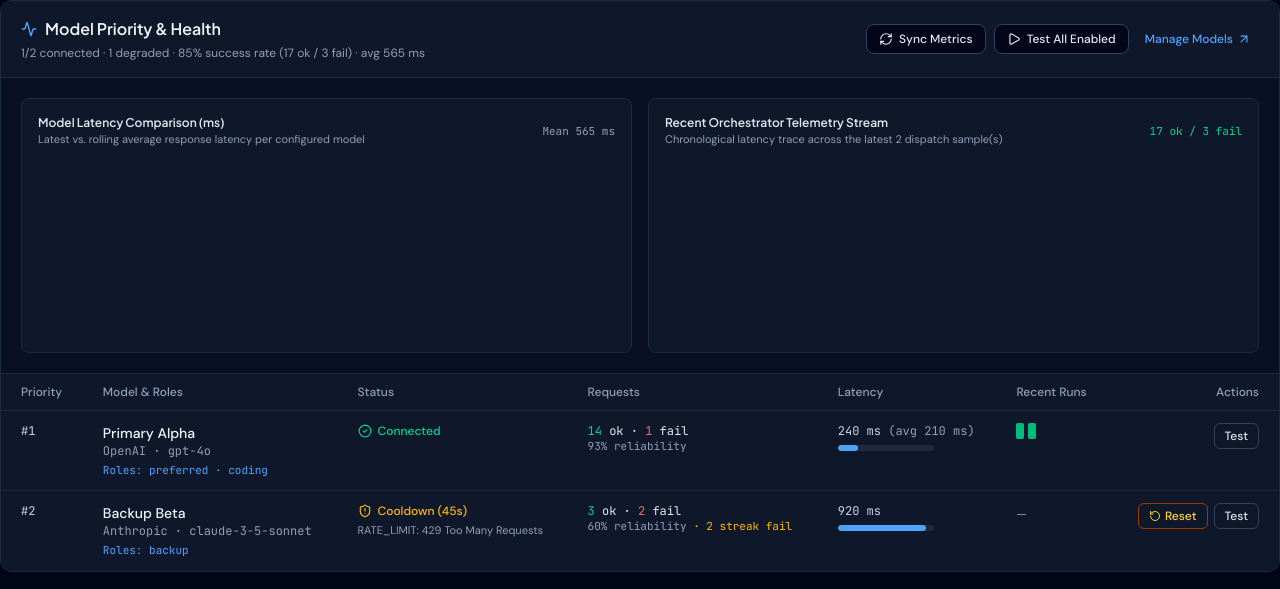
Test: ModelHealthDashboard Component › renders connection status, latency, reliability metrics, cooldown timer, Recharts charts, and resets cooldown
The width and height of the screenshot is (1280, 589).
Expected: the text "Primary Alpha" is shown, [103,424,195,442]
Expected: the text "Backup Beta" is shown, [103,504,185,522]
Click the button with aria-label "Refresh live orchestrator metrics".
click(926, 39)  # box [866,24,986,54]
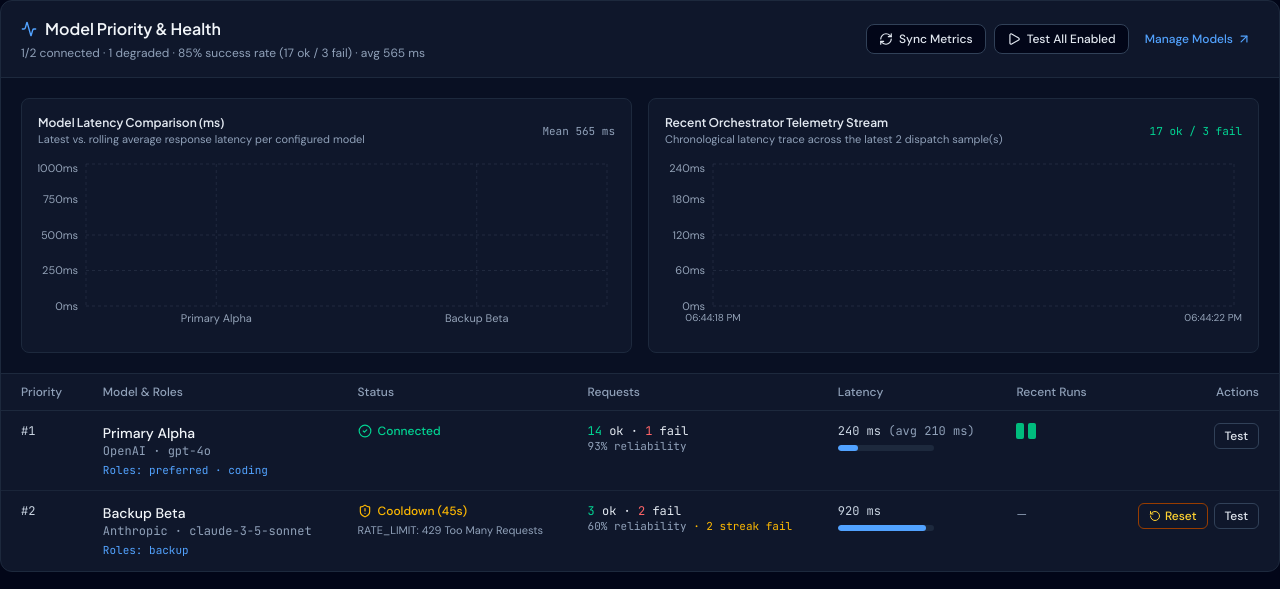
# Click Reset circuit breaker button on Backup Beta
Click the button "Reset".
click(1173, 516)  # box [1138,503,1208,529]
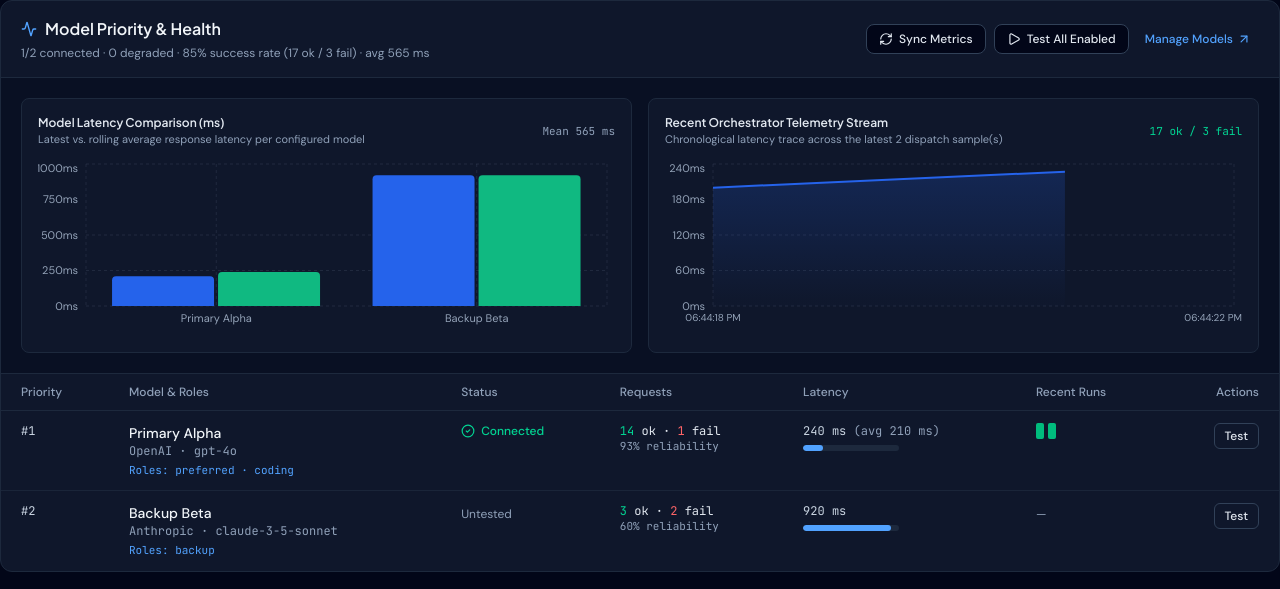
Result: the text "Cooldown (" is gone
